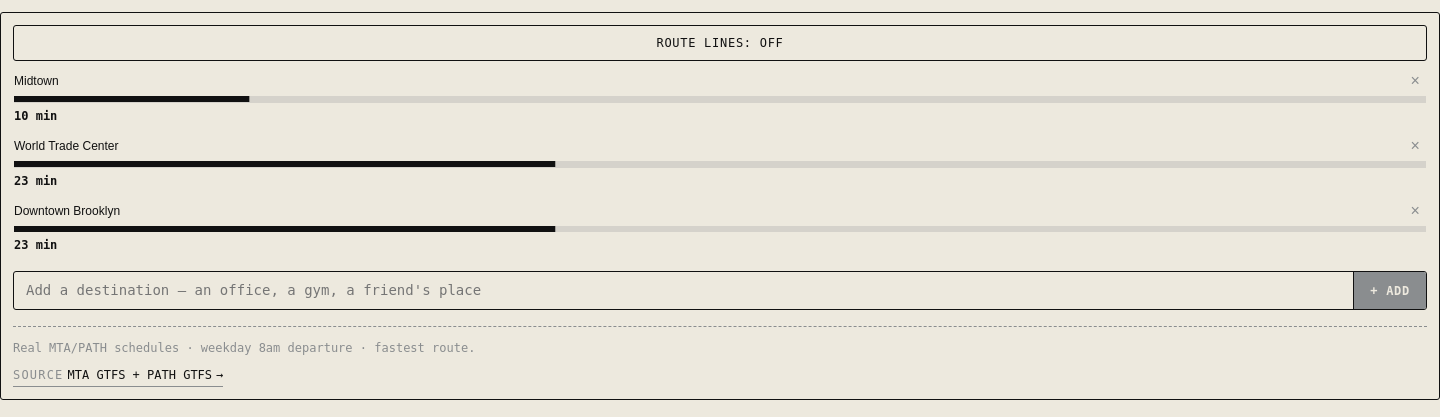
Scenario: GettingAroundField -- Wave 3 editable destinations › deleting a default anchor exits (not pops), then removes it from view; others stay, and the baked minute values are untouched
Expected: the text "Midtown" is shown, x1=14 y1=74 x2=59 y2=88
Click the button named "remove midtown from this list": (1415,81) x1=1404 y1=70 x2=1426 y2=92
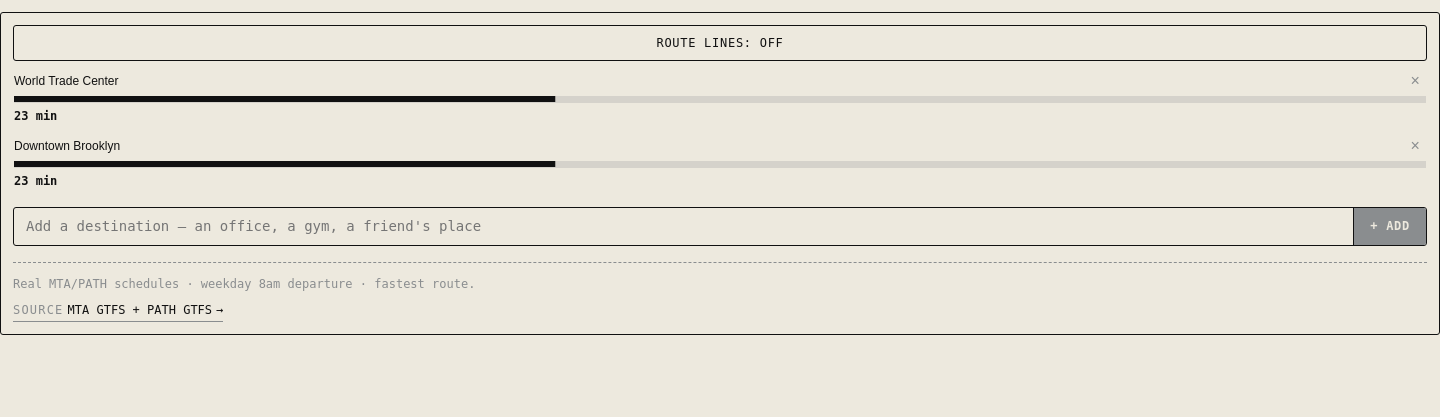
Result: the button "Midtown" is gone
Result: the text "23 min" is shown 2 times at x1=14 y1=109 x2=57 y2=123; x1=14 y1=174 x2=57 y2=188
